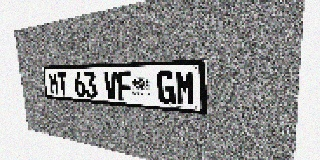3: (84, 72, 97, 98)
6: (73, 72, 86, 97)
F: (117, 71, 132, 101)
G: (156, 71, 175, 104)
M: (175, 70, 196, 106), (48, 72, 59, 95)
T: (57, 72, 68, 96)
V: (103, 71, 118, 100)
